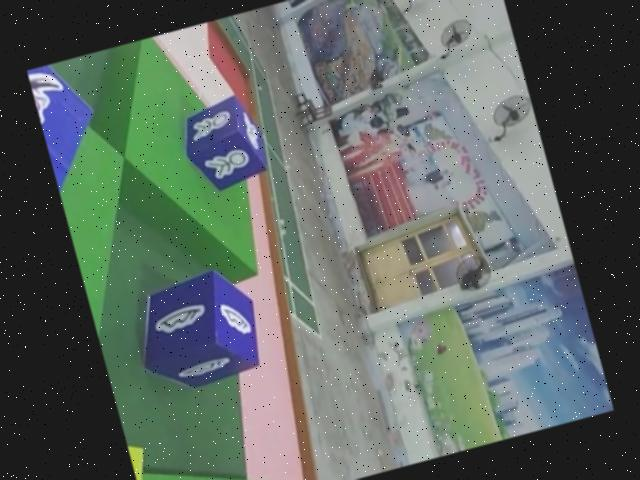R2 Real Blue: (119, 261, 268, 401), (173, 90, 274, 198)
